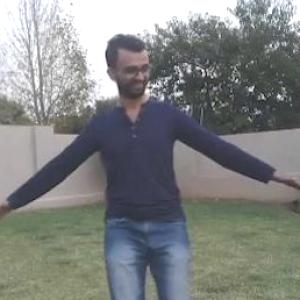land: (23, 36, 293, 299)
